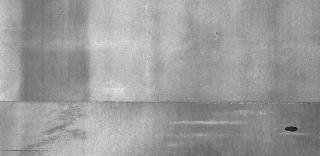punching hole: (282, 124, 302, 134)
welding line: (2, 94, 320, 110)
